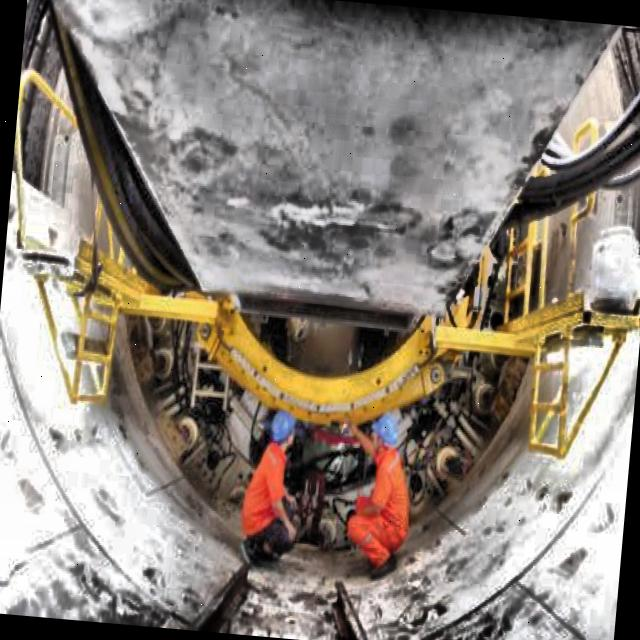helmet: (364, 414, 398, 457), (268, 406, 298, 454)
